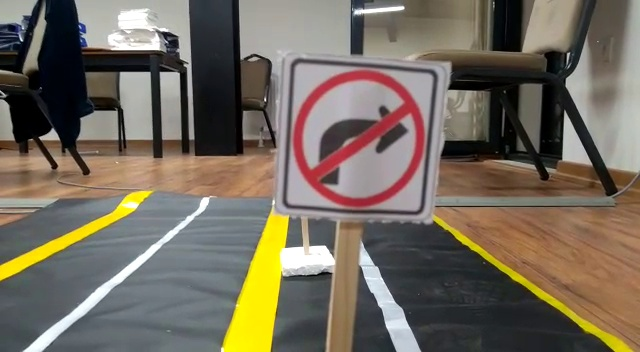saga_donulmez: (286, 57, 429, 212)
